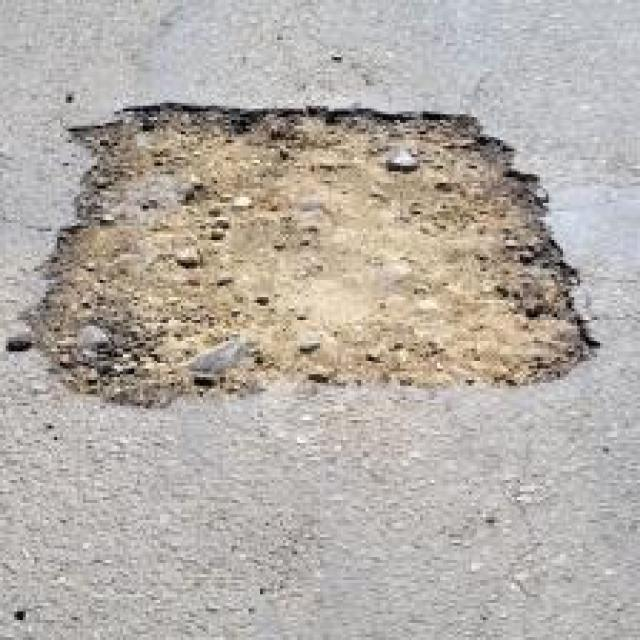BACHE: (31, 105, 589, 404)
GRIETA: (501, 480, 543, 598)
